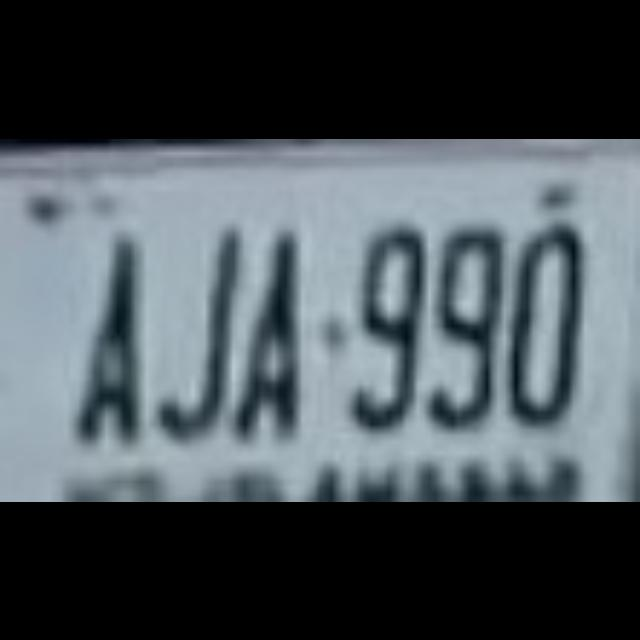0: (514, 196, 588, 444)
9: (360, 196, 436, 444), (436, 196, 510, 444)
A: (72, 198, 148, 446), (236, 196, 310, 444)
J: (158, 197, 232, 445)
